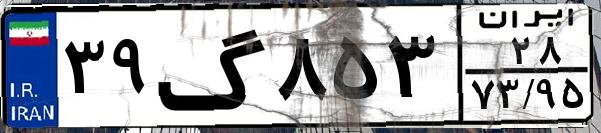2: (508, 27, 537, 80)
3: (385, 28, 445, 110), (57, 26, 110, 100), (495, 70, 520, 125)
5: (330, 28, 385, 110), (560, 70, 590, 125)
7: (470, 70, 495, 125)
8: (270, 28, 330, 110), (537, 27, 568, 80)
9: (110, 28, 156, 98), (535, 70, 560, 125)
گ: (156, 12, 270, 120)
